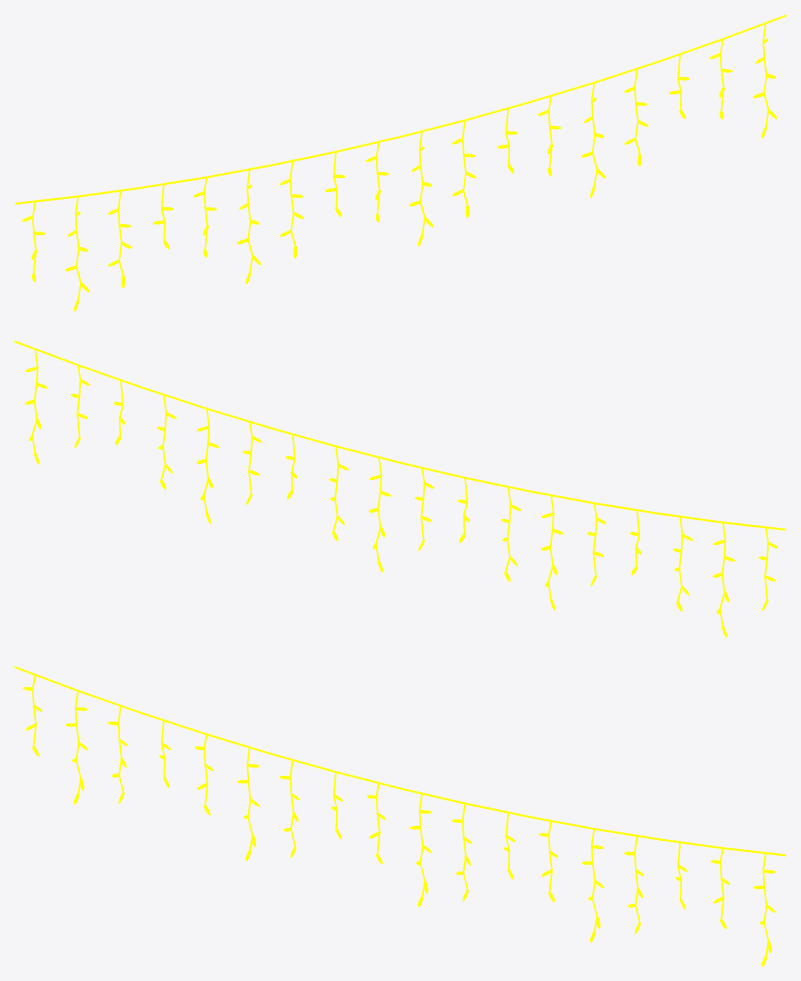
File: light-string-white-5m-christmas.glb
The picture shows the model from 3 angles, top to bottom: view 1: azimuth 30°, elevation 25°; view 2: azimuth 150°, elevation 25°; view 3: azimuth 330°, elevation 25°; orthographic projection.
Visible parts, largest first — view 1: light_string_white_5m_christmas; view 2: light_string_white_5m_christmas; view 3: light_string_white_5m_christmas.
Boxes of the visible parts, <box> form: light_string_white_5m_christmas: <box>15,14,786,311</box>; light_string_white_5m_christmas: <box>14,340,785,637</box>; light_string_white_5m_christmas: <box>14,666,785,966</box>.
Size of the model in its own units: 5 by 0.8811 by 0.0886.
2 materials, 2 textured.
